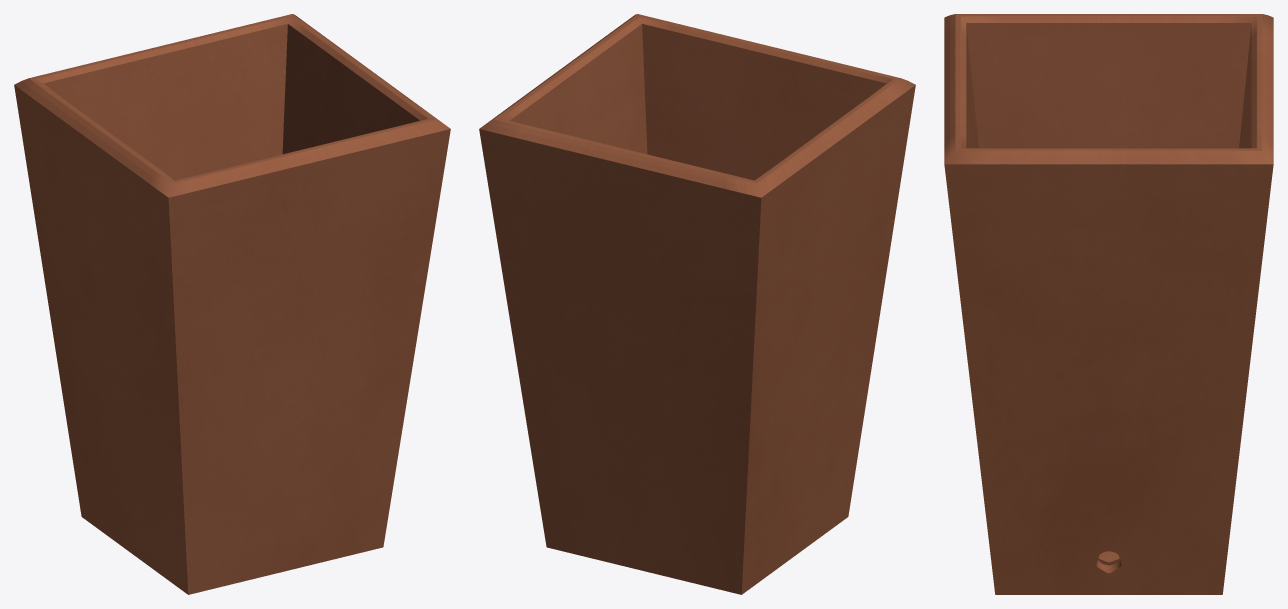
3 renders of one model, left to right at view 1: azimuth 30°, elevation 25°; view 2: azimuth 150°, elevation 25°; view 3: azimuth 270°, elevation 25°, orthographic. The views are drawn at different scales.
Parts seen in each view (by area): view 1: Cube; view 2: Cube; view 3: Cube.
Boxes of the visible parts, bbox=[...] form: Cube: bbox=[14, 14, 450, 594]; Cube: bbox=[479, 14, 915, 594]; Cube: bbox=[944, 14, 1273, 594].
Bounding box in the file's own units: 1.89 × 2.76 × 1.79.
1 material, 1 textured.
